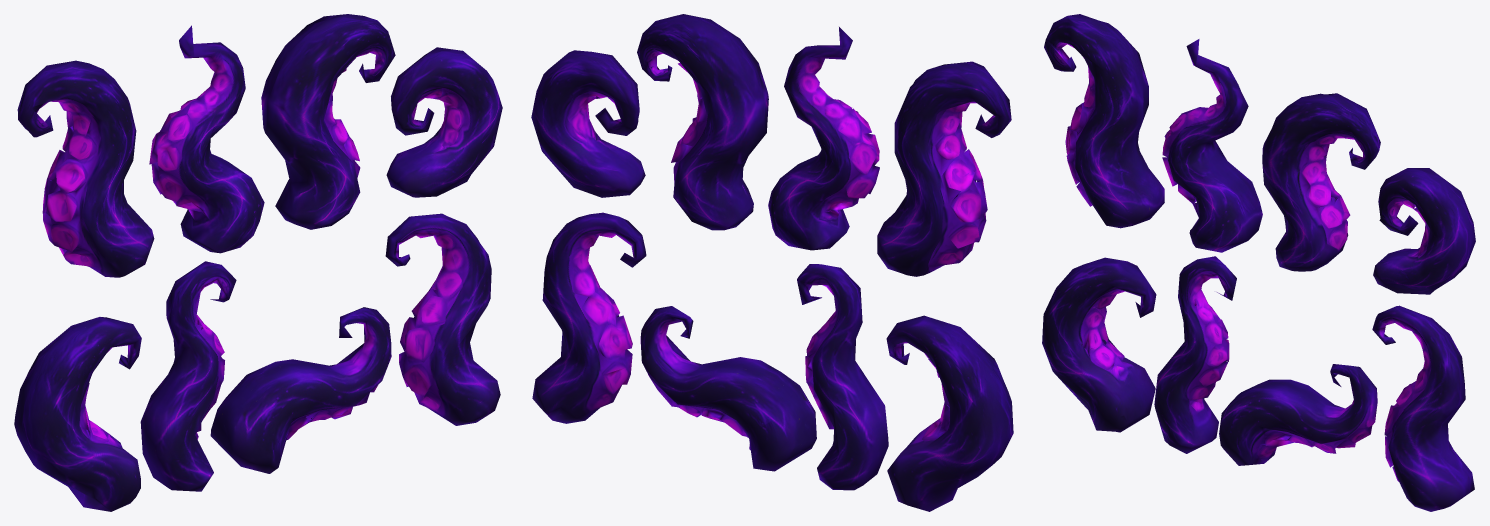
File: black_purple.glb
3 views of the same model, side by side, from view 1: azimuth 30°, elevation 25°; view 2: azimuth 150°, elevation 25°; view 3: azimuth 330°, elevation 25° (orthographic). The views are drawn at different scales.
Parts seen in each view (by area): view 1: tripo_node_66b42a3c-d156-4b57-9eec-b63d6edbc64b; view 2: tripo_node_66b42a3c-d156-4b57-9eec-b63d6edbc64b; view 3: tripo_node_66b42a3c-d156-4b57-9eec-b63d6edbc64b.
Boxes of the visible parts, x1=… form: tripo_node_66b42a3c-d156-4b57-9eec-b63d6edbc64b: x1=14, y1=14, x2=502, y2=511; tripo_node_66b42a3c-d156-4b57-9eec-b63d6edbc64b: x1=531, y1=14, x2=1013, y2=511; tripo_node_66b42a3c-d156-4b57-9eec-b63d6edbc64b: x1=1042, y1=14, x2=1475, y2=511.
Bounding box in the file's own units: 1 × 0.915 × 0.1477.
Materials: 1 (1 with a texture image).
